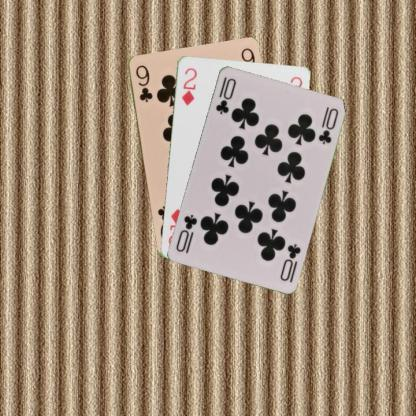10c: (278, 240, 302, 284), (212, 75, 237, 116)
2d: (178, 65, 198, 107)
9c: (133, 62, 154, 103)
